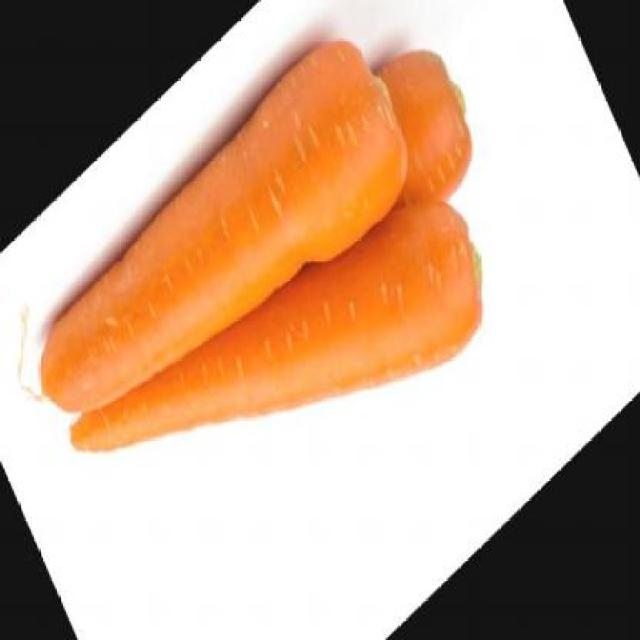carrot: (62, 86, 504, 639), (13, 5, 424, 503), (342, 18, 486, 242)
